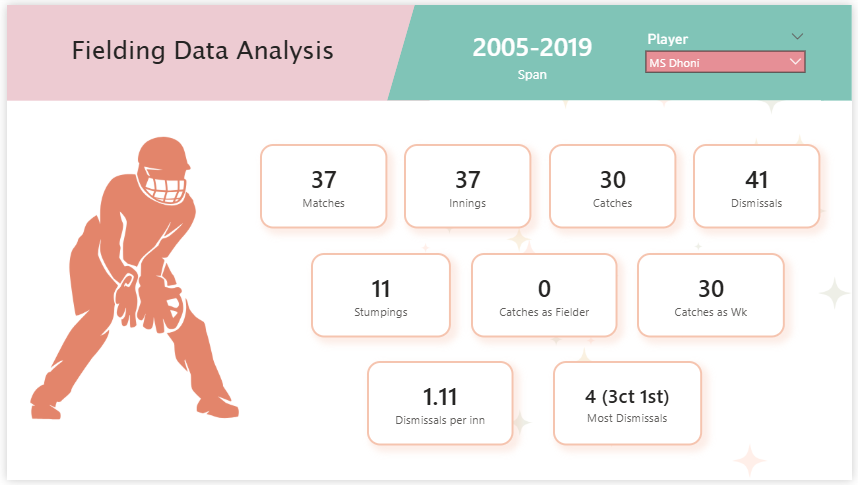

What the dashboard file says about the page in this screenshot:
{"tool":"powerbi","page":{"name":"Fielding","canvas":[1280,720],"ordinal":2},"visuals":[{"type":"shape","box":[0,0,639.7,144.8],"z":0},{"type":"shape","box":[575.9,0,703.4,144.8],"z":1000},{"type":"shape","box":[1232.8,0,46.6,144.8],"z":2000},{"type":"slicer","fields":{"Values":["Fielding stats.Player"]},"box":[956.9,32.8,262.1,101.7],"z":3000},{"type":"cardVisual","fields":{"Data":["Min(Fielding stats.Span)"]},"box":[665.5,19,262.1,112.1],"z":4000},{"type":"textbox","box":[93.1,36.2,412.1,86.2],"z":5000},{"type":"cardVisual","fields":{"Data":["Sum(Fielding stats.Mat)"]},"box":[382.8,210.3,193.1,127.6],"z":6000},{"type":"cardVisual","fields":{"Data":["Sum(Fielding stats.Inns)"]},"box":[601.7,210.3,193.1,127.6],"z":7000},{"type":"cardVisual","fields":{"Data":["Sum(Fielding stats.Ct)"]},"box":[820.7,210.3,193.1,127.6],"z":8000},{"type":"cardVisual","fields":{"Data":["Sum(Fielding stats.Dis)"]},"box":[1039.7,210.3,193.1,127.6],"z":9000},{"type":"cardVisual","fields":{"Data":["Sum(Fielding stats.St)"]},"box":[460.3,376,212.1,127.6],"z":10000},{"type":"cardVisual","fields":{"Data":["Sum(Fielding stats.D/I)"]},"box":[544.8,540.1,222.4,127.6],"z":11000},{"type":"cardVisual","fields":{"Data":["Sum(Fielding stats.Ct Wk)"]},"box":[955.2,376,224.1,127.6],"z":12000},{"type":"cardVisual","fields":{"Data":["Sum(Fielding stats.Ct Fi)"]},"box":[703.4,376,222.4,127.6],"z":13000},{"type":"cardVisual","fields":{"Data":["Min(Fielding stats.MD)"]},"box":[827.6,540.1,225.9,127.6],"z":14000}]}

Visuals, with their boxes in screenshot pixels (x1, y1, x2, y2), scaled from the page's 1280x720 canvas onto the 858x485 screenshot:
shape: {"left": 0, "top": 0, "right": 429, "bottom": 98}
shape: {"left": 386, "top": 0, "right": 857, "bottom": 98}
shape: {"left": 826, "top": 0, "right": 857, "bottom": 98}
slicer - Fielding stats.Player: {"left": 641, "top": 22, "right": 817, "bottom": 91}
cardVisual - Min(Fielding stats.Span): {"left": 446, "top": 13, "right": 622, "bottom": 88}
textbox: {"left": 62, "top": 24, "right": 339, "bottom": 82}
cardVisual - Sum(Fielding stats.Mat): {"left": 257, "top": 142, "right": 386, "bottom": 228}
cardVisual - Sum(Fielding stats.Inns): {"left": 403, "top": 142, "right": 533, "bottom": 228}
cardVisual - Sum(Fielding stats.Ct): {"left": 550, "top": 142, "right": 680, "bottom": 228}
cardVisual - Sum(Fielding stats.Dis): {"left": 697, "top": 142, "right": 826, "bottom": 228}
cardVisual - Sum(Fielding stats.St): {"left": 309, "top": 253, "right": 451, "bottom": 339}
cardVisual - Sum(Fielding stats.D/I): {"left": 365, "top": 364, "right": 514, "bottom": 450}
cardVisual - Sum(Fielding stats.Ct Wk): {"left": 640, "top": 253, "right": 790, "bottom": 339}
cardVisual - Sum(Fielding stats.Ct Fi): {"left": 471, "top": 253, "right": 621, "bottom": 339}
cardVisual - Min(Fielding stats.MD): {"left": 555, "top": 364, "right": 706, "bottom": 450}
